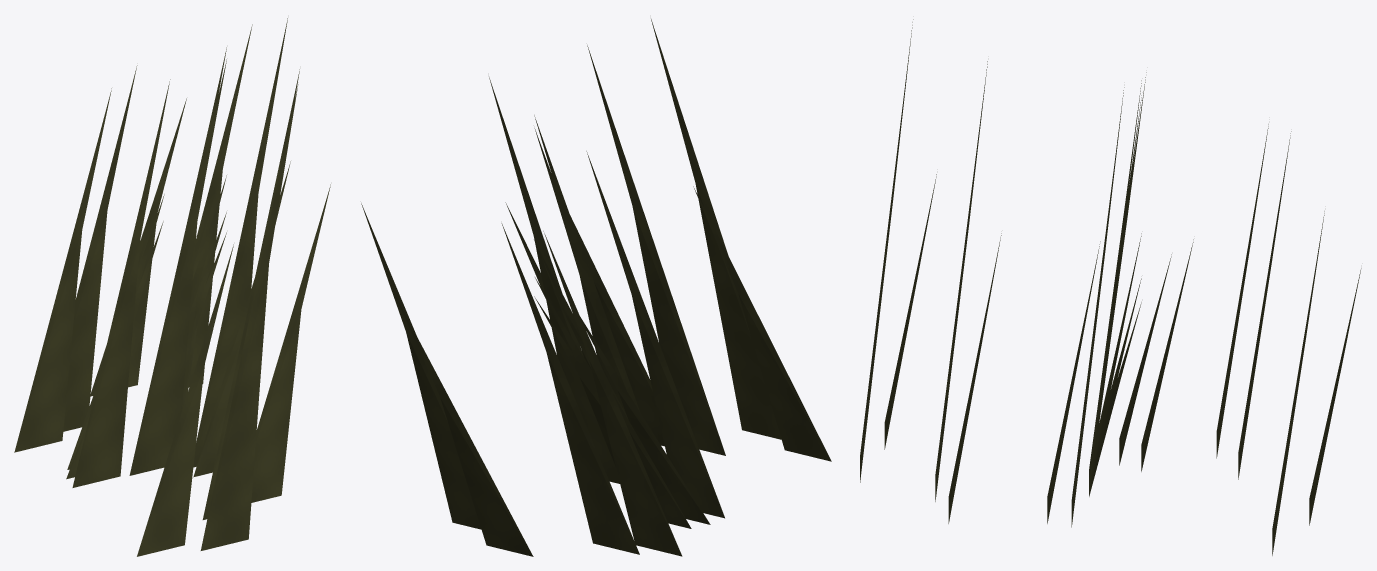
Rendered from nature_grass_clump.glb.
3 views of the same model, side by side, from view 1: azimuth 30°, elevation 25°; view 2: azimuth 150°, elevation 25°; view 3: azimuth 270°, elevation 25° (orthographic). The views are drawn at different scales.
Parts seen in each view (by area): view 1: grass_blade.015, grass_blade.012, grass_blade.017, grass_blade.014, grass_blade.007, grass_blade.006, grass_blade.010, grass_blade.013, grass_blade.003, grass_blade.011, grass_blade.005, grass_blade.002 (+6 smaller); view 2: grass_blade.015, grass_blade.002, grass_blade.017, grass_blade.006, grass_blade.014, grass_blade.007, grass_blade.011, grass_blade.003, grass_blade.013, grass_blade.010, grass_blade.009, grass_blade.008 (+4 smaller); view 3: grass_blade.015, grass_blade.013, grass_blade.002, grass_blade.012, grass_blade.003, grass_blade.006, grass_blade.014, grass_blade.010, grass_blade.005, grass_blade.007, grass_blade.011, grass_blade.001 (+2 smaller).
Part boxes in pixels (<box>): grass_blade.015: <box>200,84,298,550</box>; grass_blade.012: <box>129,47,226,475</box>; grass_blade.017: <box>72,79,170,487</box>; grass_blade.014: <box>14,88,111,452</box>; grass_blade.007: <box>137,244,233,556</box>; grass_blade.006: <box>63,65,137,431</box>; grass_blade.010: <box>251,184,330,502</box>; grass_blade.013: <box>193,18,287,467</box>; grass_blade.003: <box>188,24,252,387</box>; grass_blade.011: <box>90,98,186,396</box>; grass_blade.005: <box>193,161,290,477</box>; grass_blade.002: <box>202,69,299,519</box>; grass_blade.015: <box>651,19,781,439</box>; grass_blade.002: <box>587,45,725,455</box>; grass_blade.017: <box>586,151,724,518</box>; grass_blade.006: <box>501,223,639,554</box>; grass_blade.014: <box>543,231,682,556</box>; grass_blade.007: <box>693,186,831,461</box>; grass_blade.011: <box>395,296,533,556</box>; grass_blade.003: <box>361,203,481,529</box>; grass_blade.013: <box>489,77,619,483</box>; grass_blade.010: <box>570,215,664,446</box>; grass_blade.009: <box>580,317,710,524</box>; grass_blade.008: <box>534,128,637,415</box>; grass_blade.015: <box>860,19,913,482</box>; grass_blade.013: <box>1071,87,1124,527</box>; grass_blade.002: <box>935,61,987,501</box>; grass_blade.012: <box>1089,80,1141,496</box>; grass_blade.003: <box>1272,211,1324,555</box>; grass_blade.006: <box>1238,131,1291,479</box>; grass_blade.014: <box>1216,124,1268,458</box>; grass_blade.010: <box>948,233,1001,523</box>; grass_blade.005: <box>1047,241,1100,523</box>; grass_blade.007: <box>884,174,936,449</box>; grass_blade.011: <box>1309,268,1361,525</box>; grass_blade.001: <box>1141,239,1193,471</box>.
Size of the model in its own units: 0.3109 by 0.421 by 0.3748.
1 material, 1 textured.
